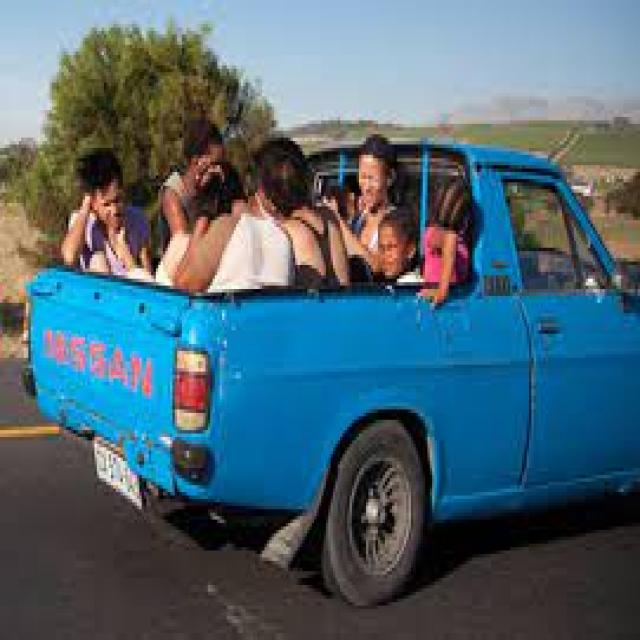Pickup Trucks: (14, 144, 640, 606)
